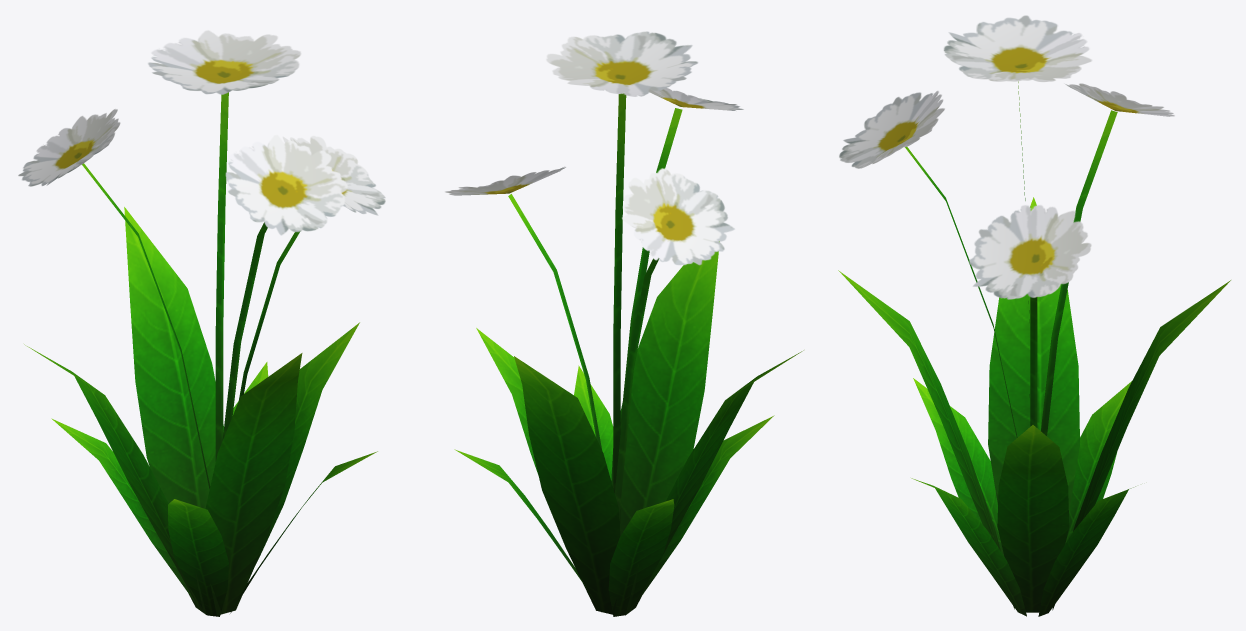
3 views of the same model, side by side, from view 1: azimuth 30°, elevation 25°; view 2: azimuth 150°, elevation 25°; view 3: azimuth 270°, elevation 25° (orthographic). The views are drawn at different scales.
Visible parts, largest first — view 1: Flower02; view 2: Flower02; view 3: Flower02.
Part boxes in pixels (x1,y1,x2,y2): Flower02: (18,30,385,616); Flower02: (445,31,803,616); Flower02: (838,15,1230,616).
Bounding box in the file's own units: 18.82 × 26.26 × 16.8.
1 material, 1 textured.
